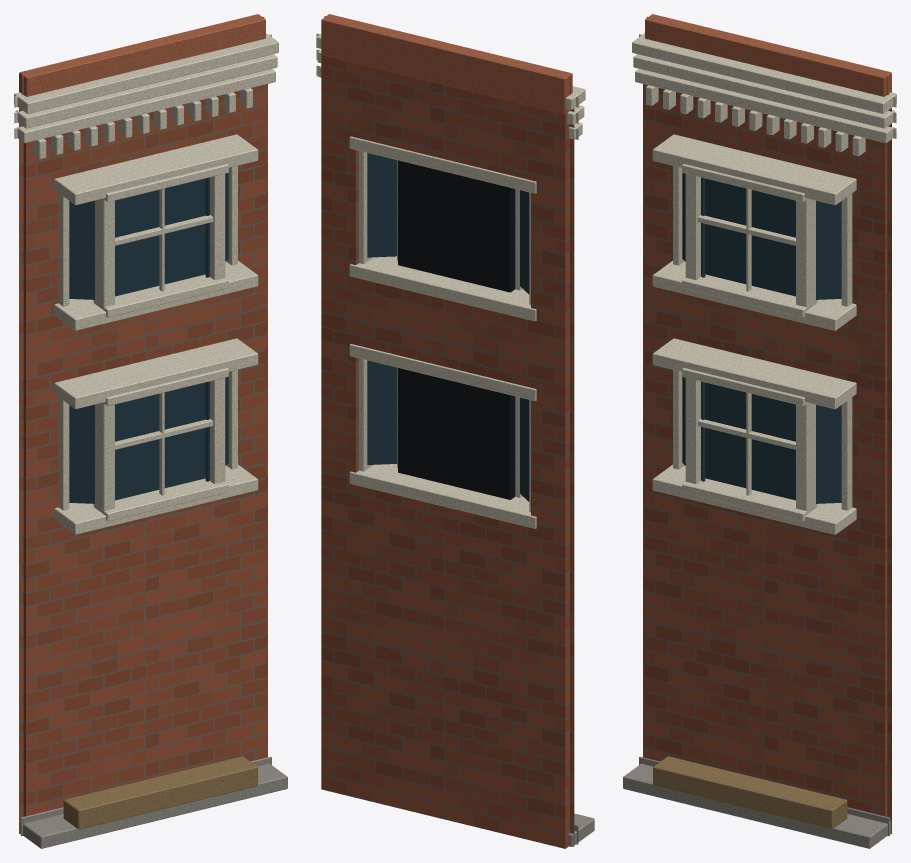
The model's file is VICT17_lod1.glb.
The picture shows the model from 3 angles, left to right: view 1: azimuth 30°, elevation 25°; view 2: azimuth 150°, elevation 25°; view 3: azimuth 330°, elevation 25°; orthographic projection.
Visible parts, largest first — view 1: VICT17_FRONT_LOD1; view 2: VICT17_FRONT_LOD1; view 3: VICT17_FRONT_LOD1.
Part boxes in pixels (x1=…): VICT17_FRONT_LOD1: x1=14, y1=14, x2=287, y2=848; VICT17_FRONT_LOD1: x1=316, y1=14, x2=594, y2=848; VICT17_FRONT_LOD1: x1=623, y1=14, x2=896, y2=848.
Size of the model in its own units: 3.44 by 9.66 by 0.695.
8 materials, 6 textured.
